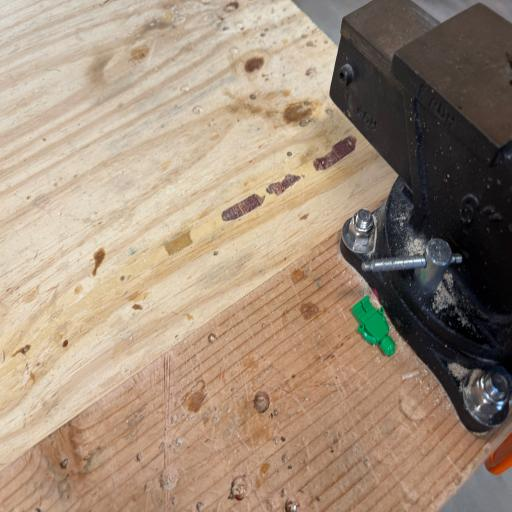Lego-Dude: (352, 295, 395, 355)
